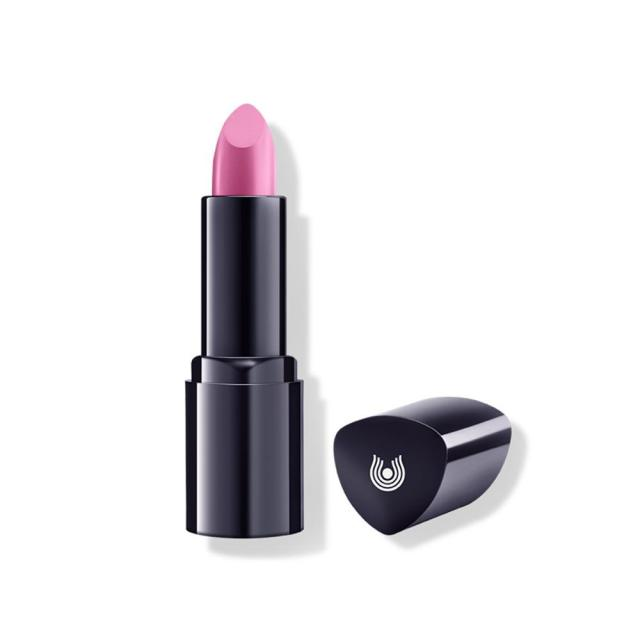lipstick: (180, 88, 312, 550)
